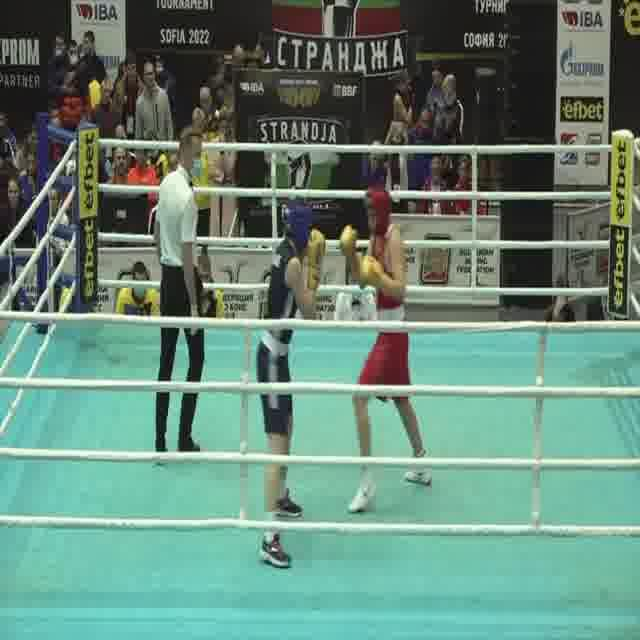blue-player: (251, 198, 329, 571)
red-player: (334, 180, 434, 518)
referee: (152, 128, 209, 469)
